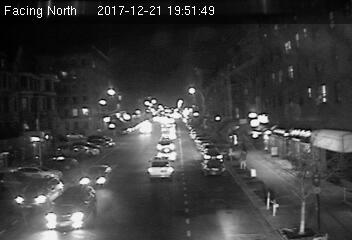car: (43, 186, 96, 227), (14, 177, 64, 207), (79, 164, 111, 187), (145, 159, 176, 180), (200, 158, 225, 175), (154, 147, 177, 160), (201, 146, 223, 159)
